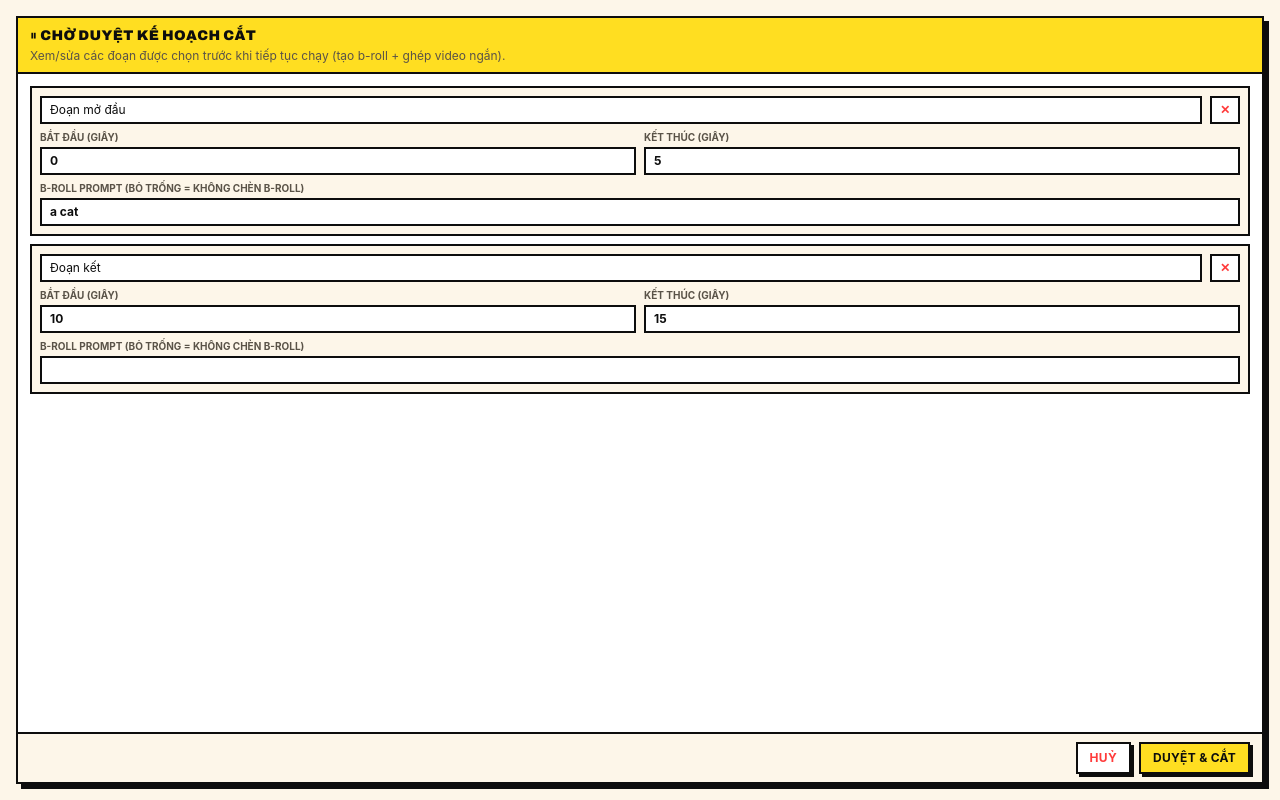
CutPlanReview › shows an inline error when resumeAwaiting rejects
The image size is (1280, 800).
Click the button with test id "cutplan-approve" at [1194, 758], box x1=1139 y1=742 x2=1250 y2=774
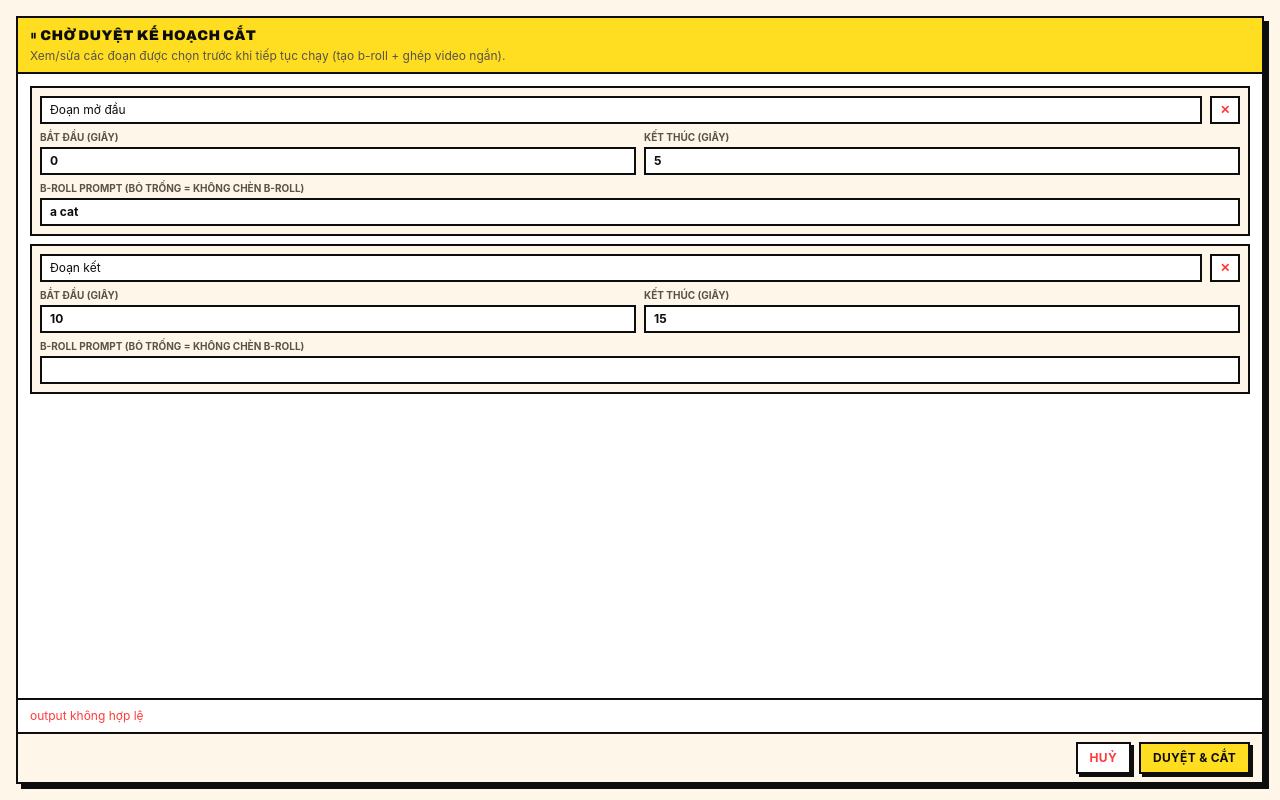
Result: the text "output không hợp lệ" is shown at x1=18 y1=698 x2=1262 y2=732
